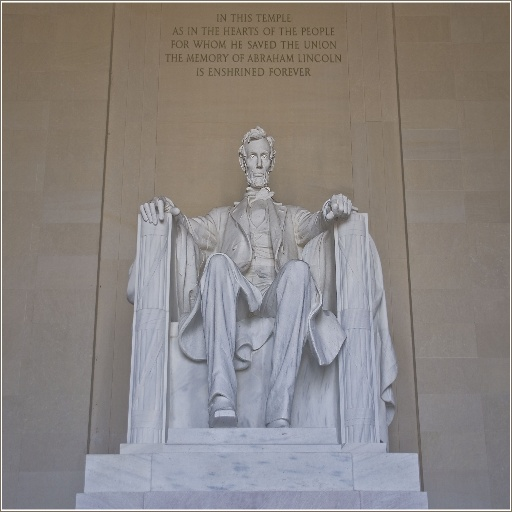hand: (318, 189, 363, 226), (138, 196, 180, 226)
